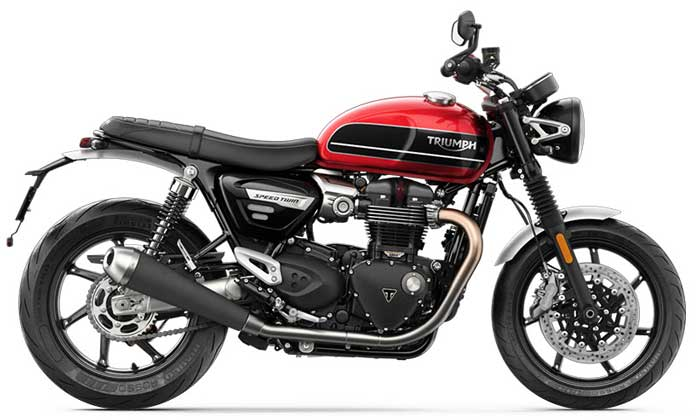motorcycle: (21, 47, 687, 411)
